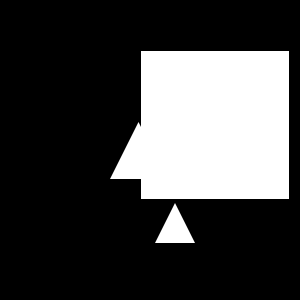circle: (141, 51, 289, 199)
rectangle: (143, 70, 255, 182)
triangle: (110, 122, 167, 179), (155, 203, 195, 243), (209, 97, 243, 131)
